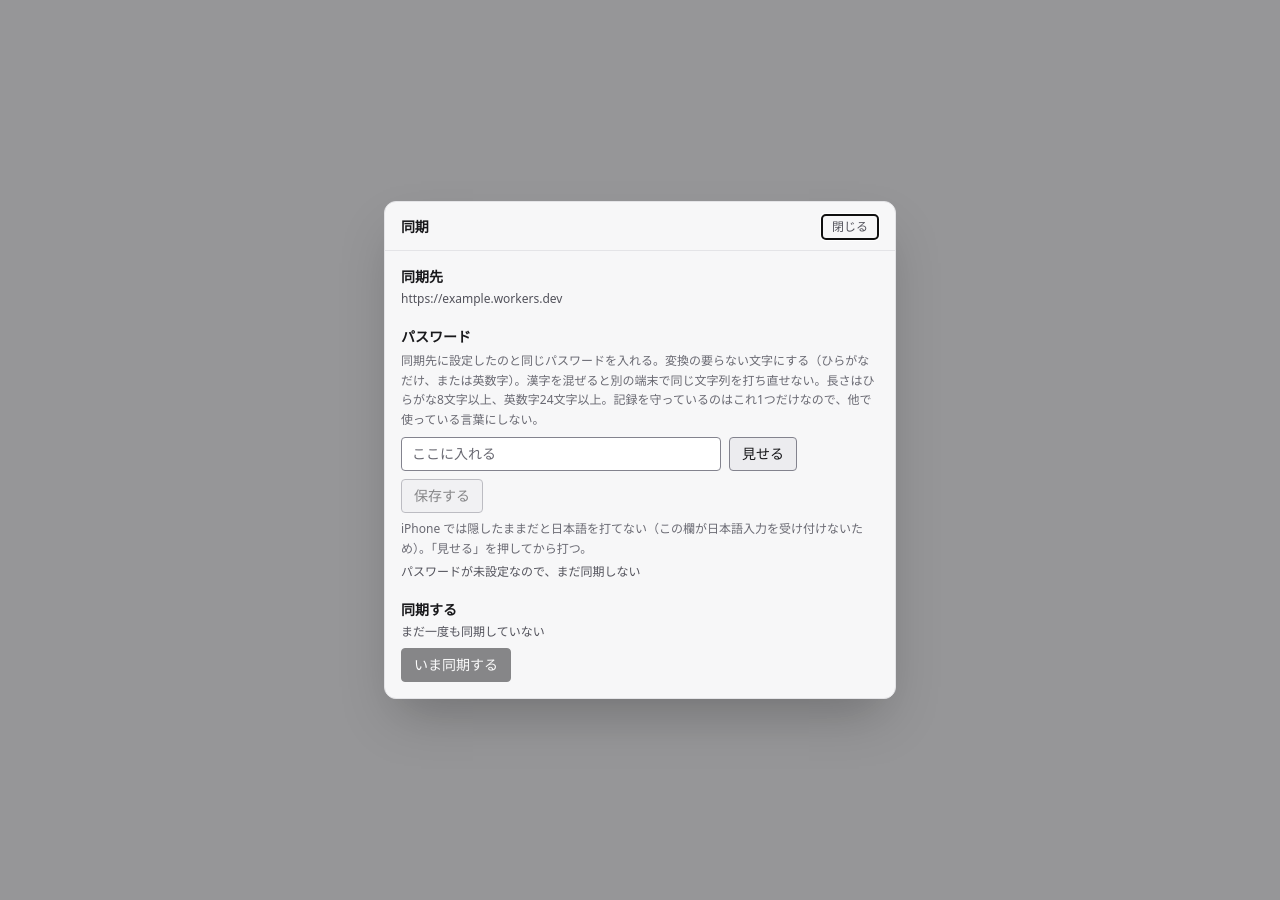
Scenario: パスワード › 短いパスワードは保存せずに理由を言う
This screenshot has width=1280, height=900.
Type "みじかい" into the password field named "同期のパスワード" at (561, 454), box [401,437,721,471]
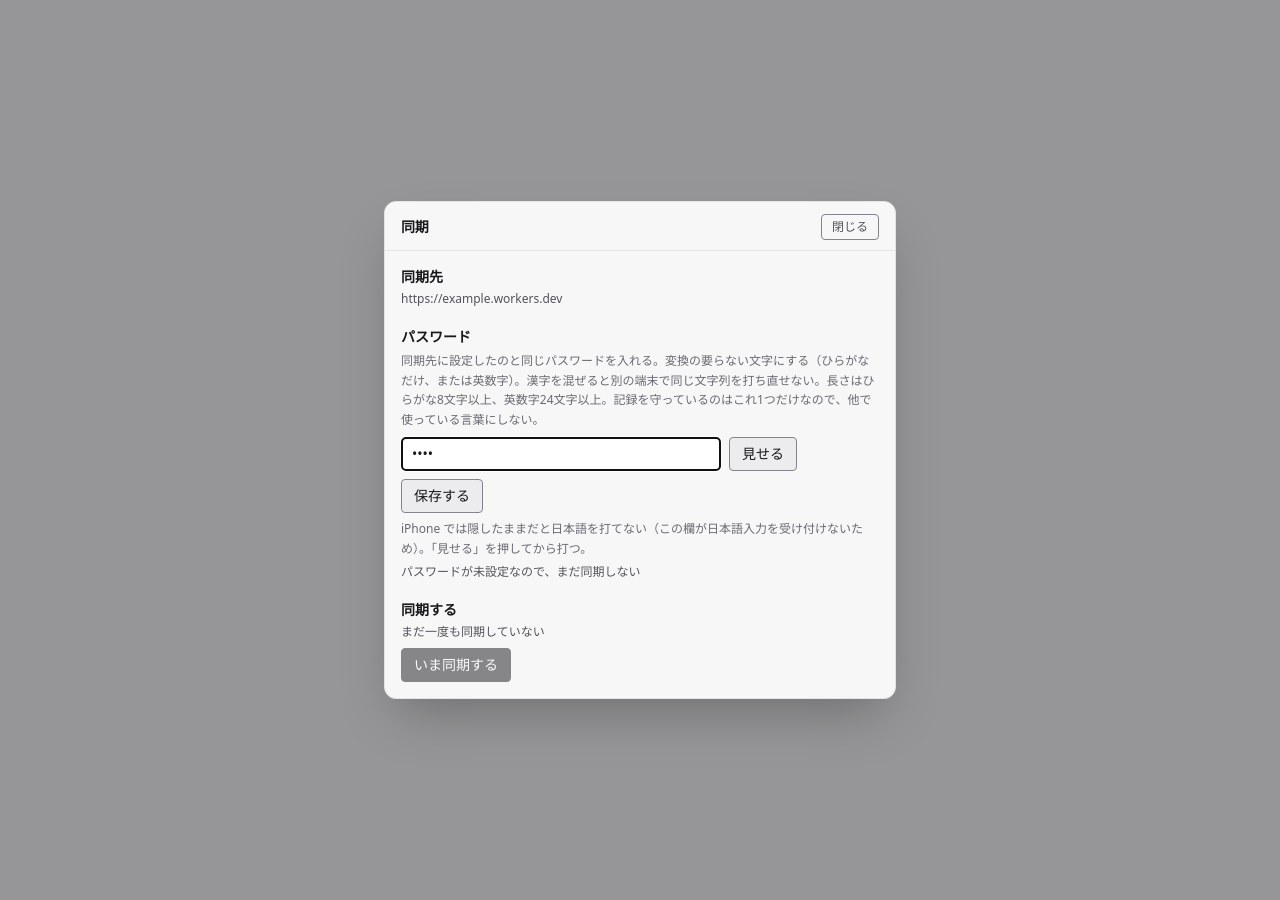
Click the button "保存する" at (442, 496), box [401,479,483,513]
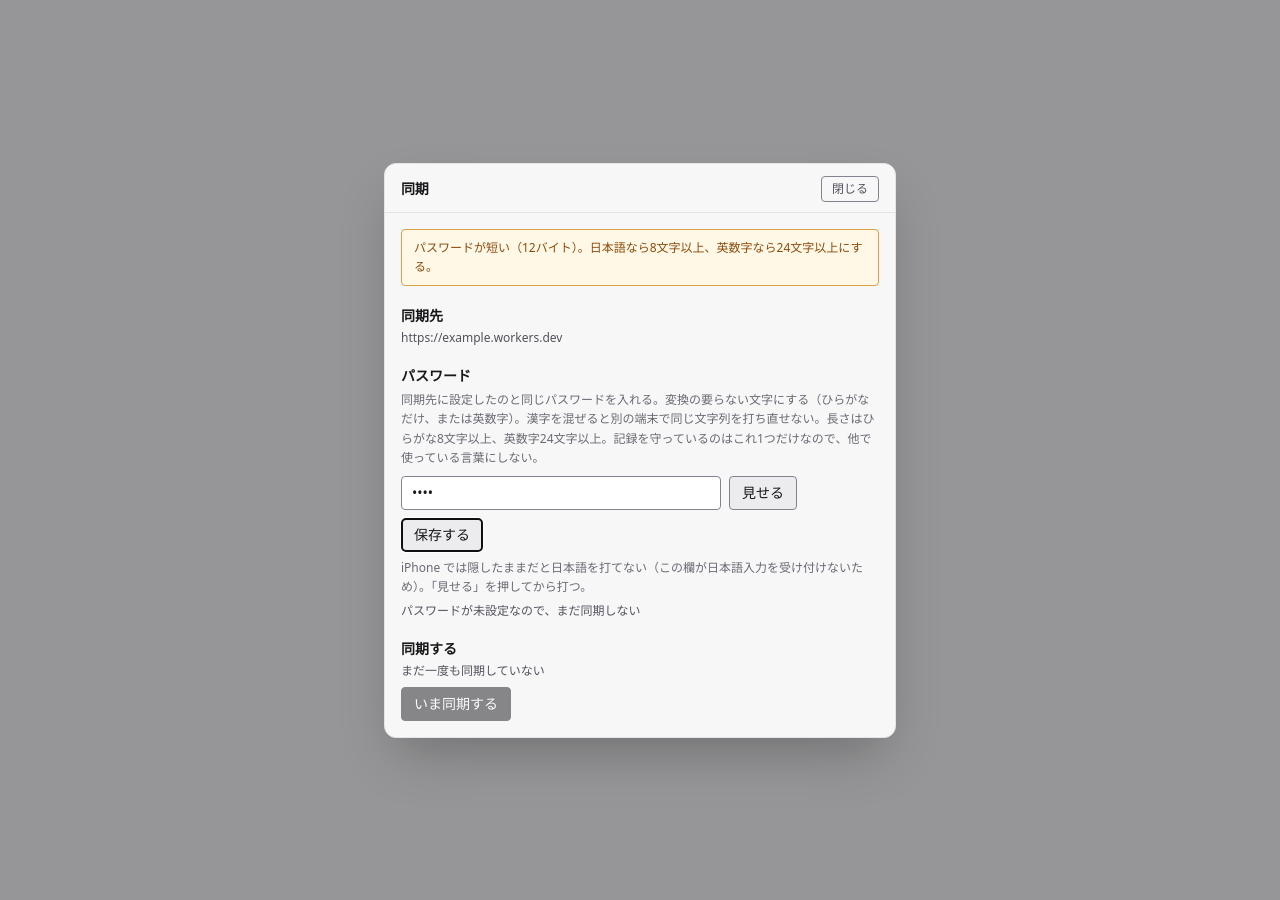
Expected: the text "パスワードが短い（12バイト）。日本語なら8文字以上、英数字なら24文字以上にする。" is shown, [401,228,879,286]
